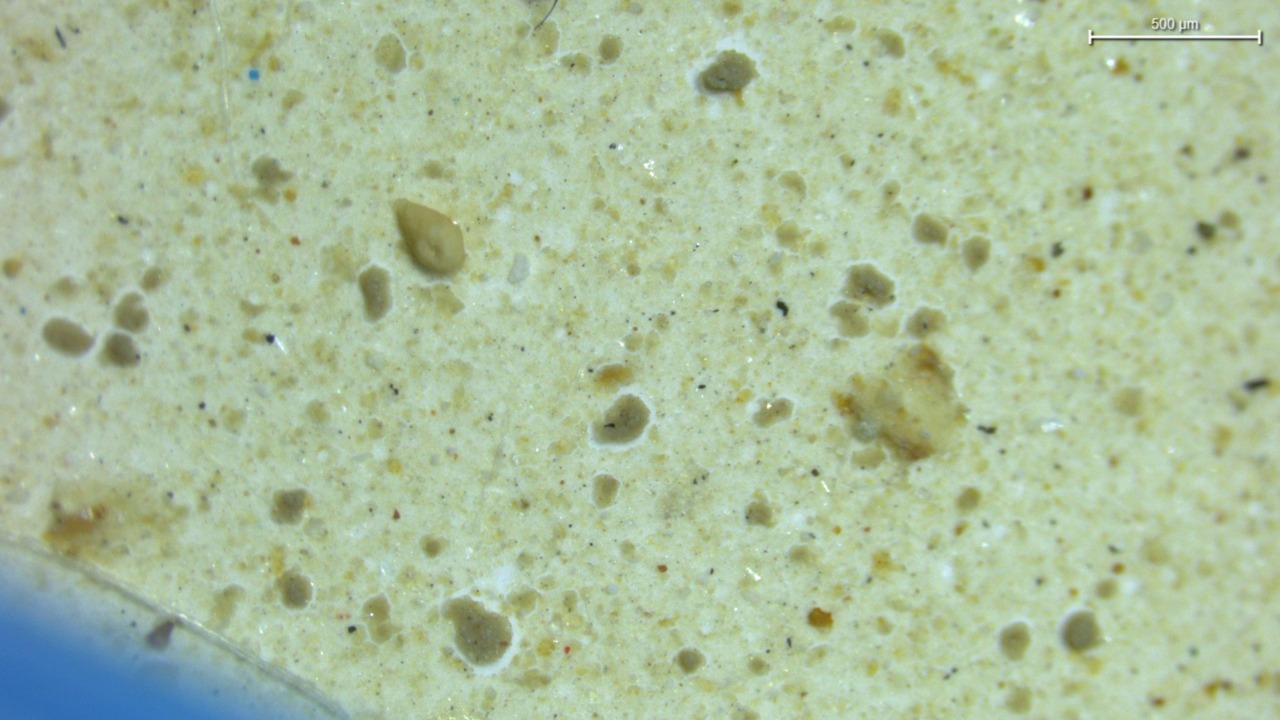microplastic_fragment: (393, 199, 465, 273)
